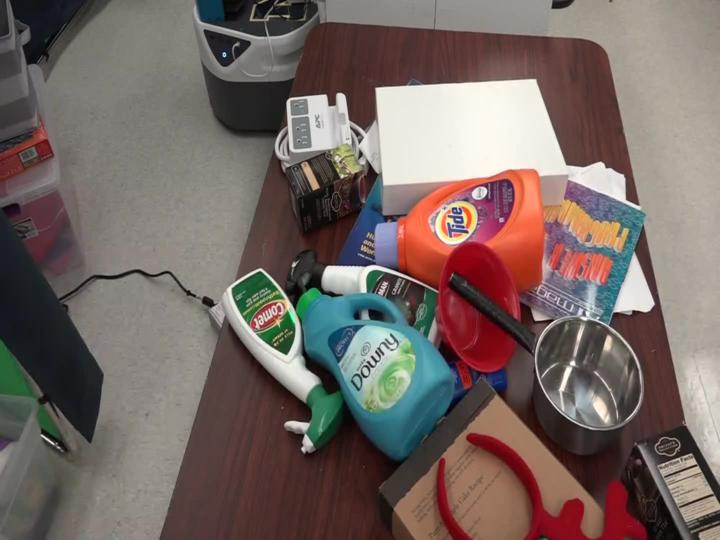tide: (364, 155, 565, 312)
